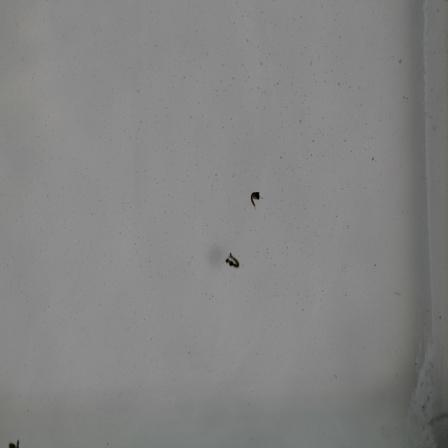Jentik-Nyamuk: (222, 248, 242, 270), (248, 187, 263, 211)
